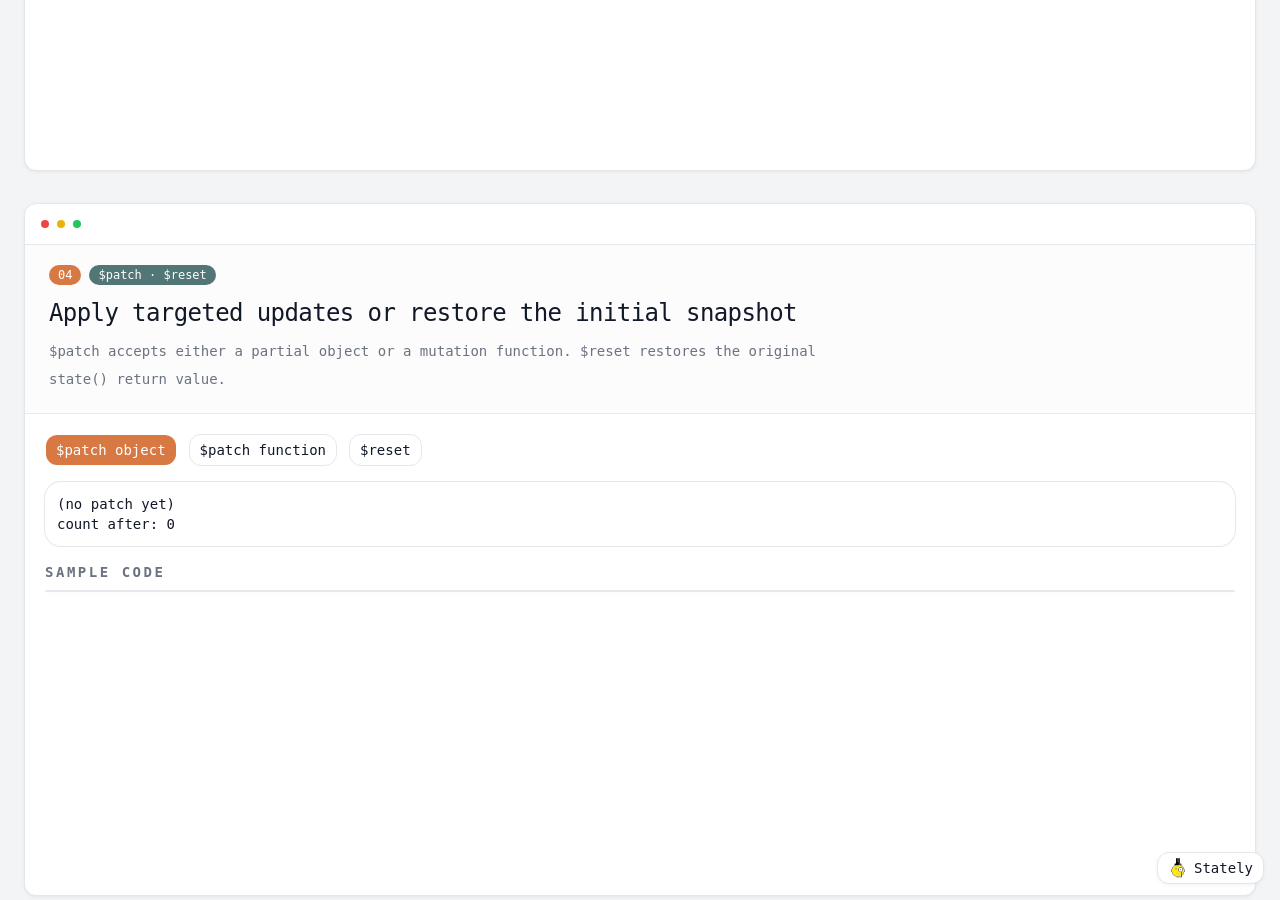
Scenario: core page › $reset restores initial state
(page scrolled)
Click the button "$patch object" at x=111, y=450, box [45,434,177,466]
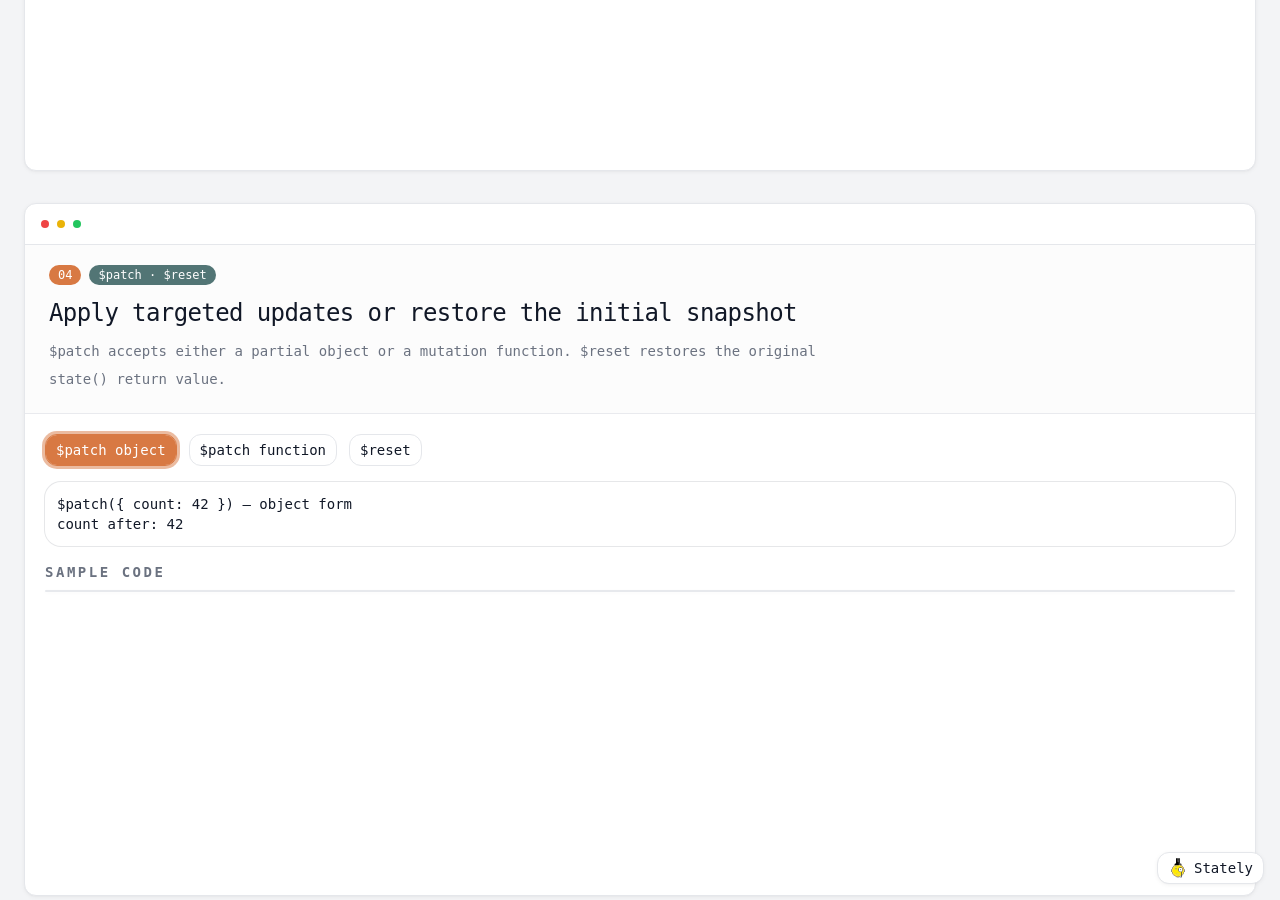
Result: the text with test id "core-patch-count" reads "count after: 42" at [57,516,183,532]
Click the button "$reset" at x=385, y=450, box [349,434,422,466]
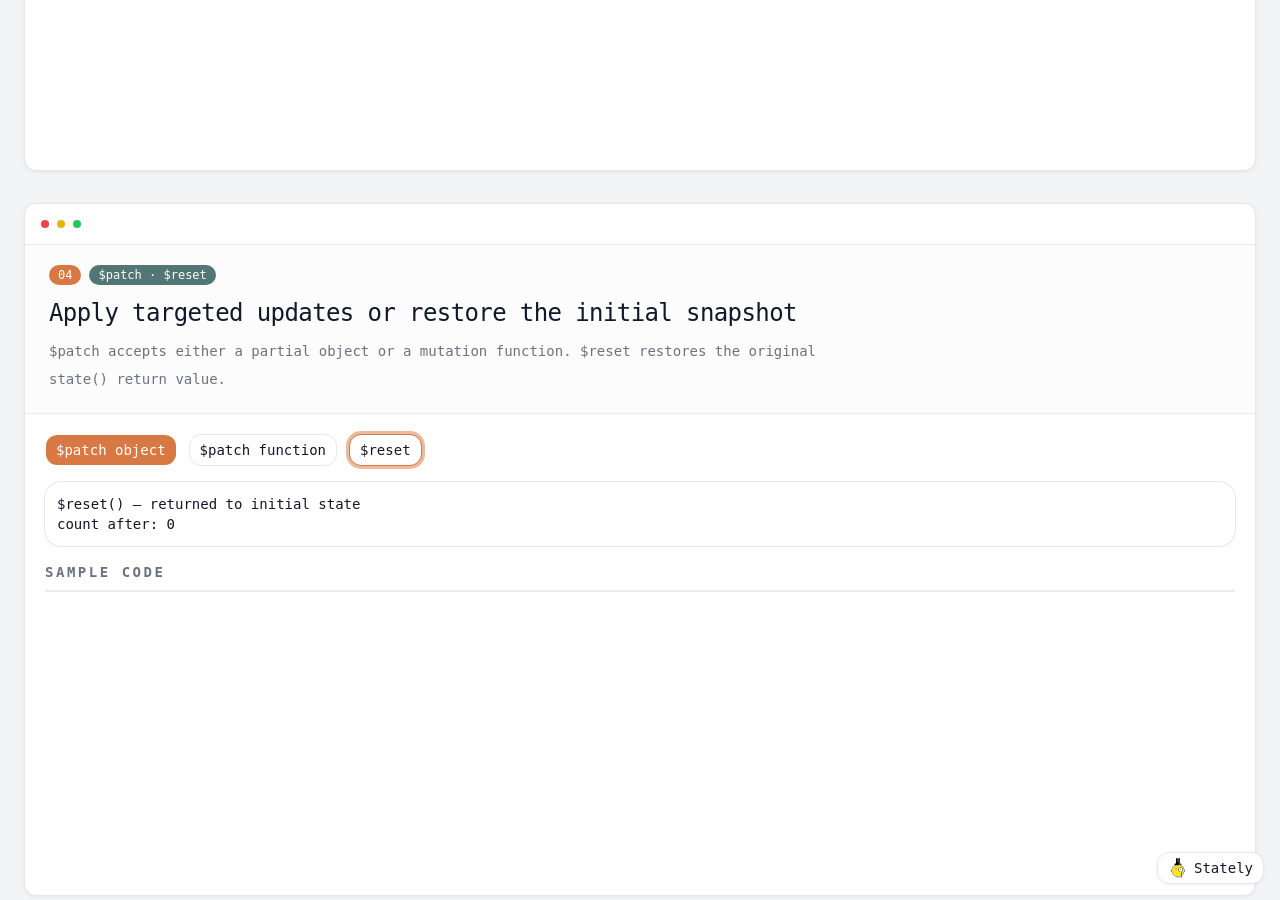
Result: the text with test id "core-patch-count" reads "count after: 0" at [57,516,175,532]
